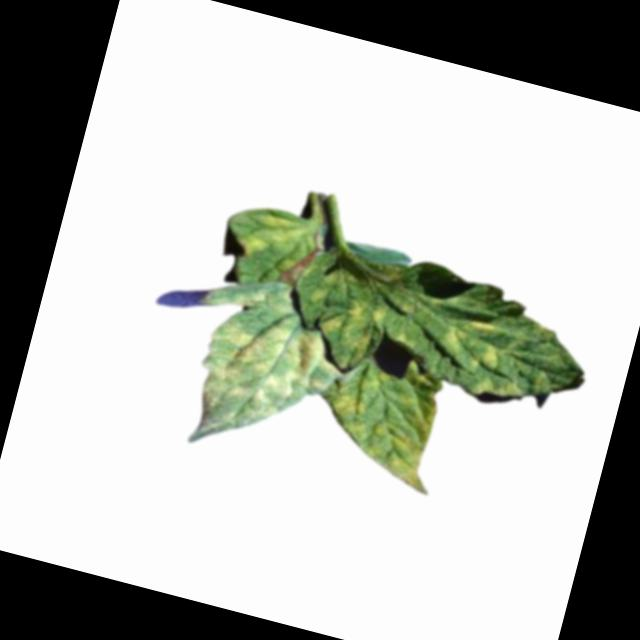Leaf_Mold: (184, 270, 356, 464), (316, 346, 459, 496), (435, 307, 506, 376), (316, 293, 387, 355), (233, 206, 303, 266), (467, 370, 524, 410)
